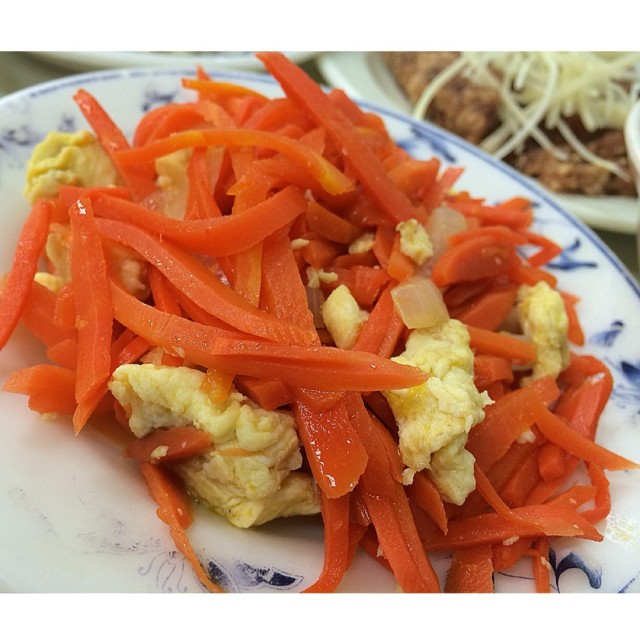carrot_eggs: (25, 104, 609, 541)
